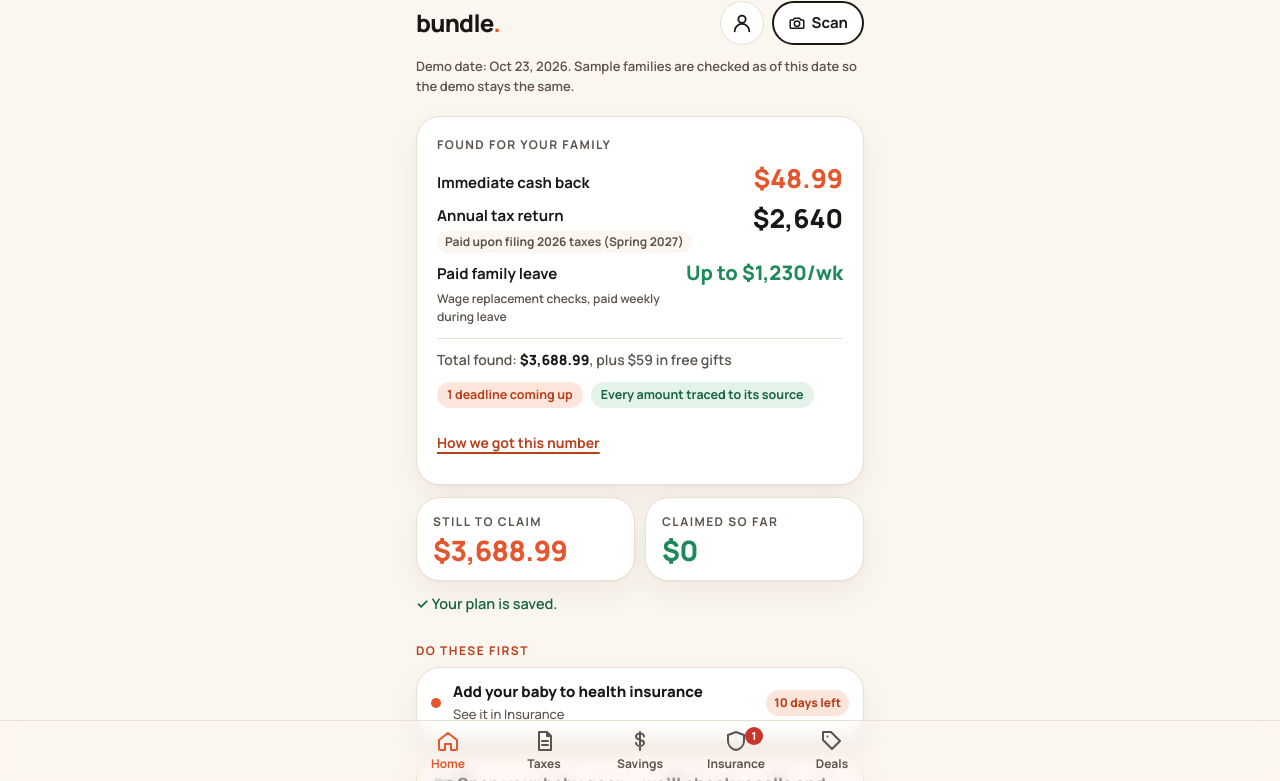
Test: Deals screen › an unsaved audit says it is shown to this parent only, and a problem is said in plain words
Click the button "Deals" at (832, 751), box [784,721,880,780]
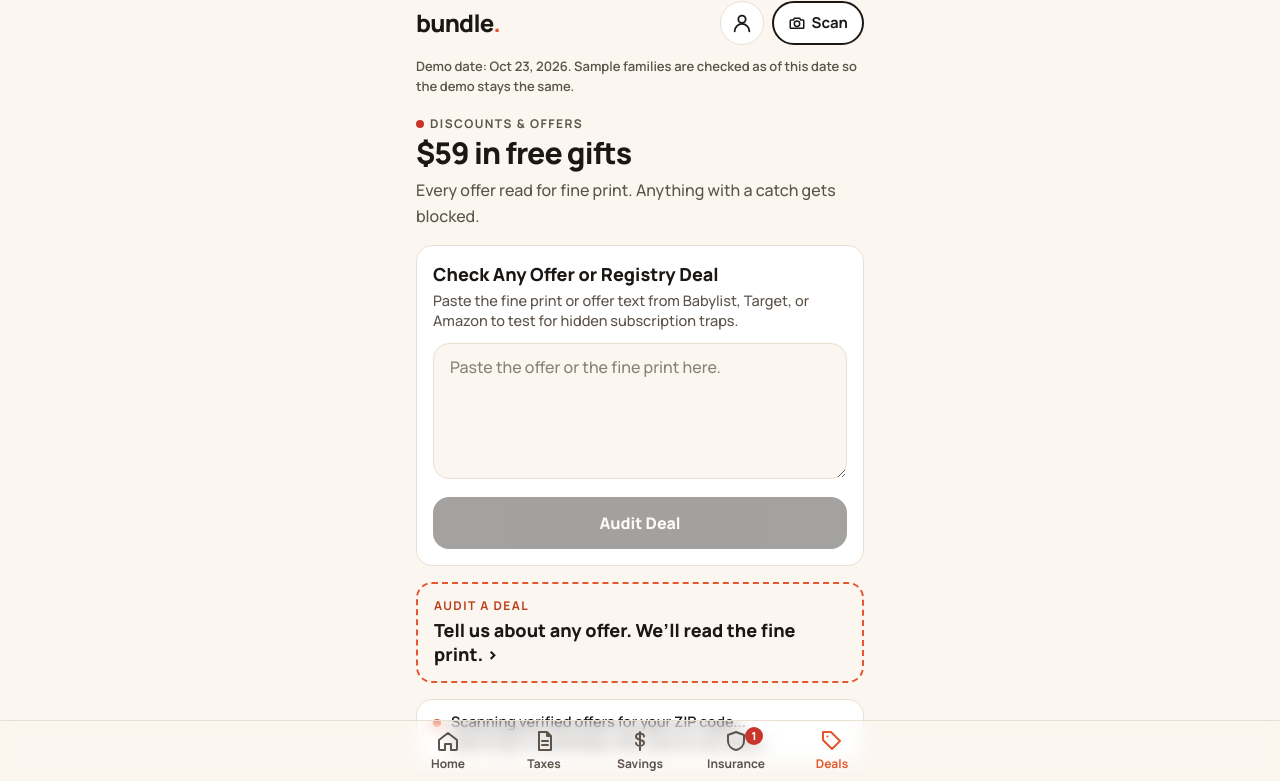
Click the button "Audit a deal" at (640, 632), box [416,582,864,683]
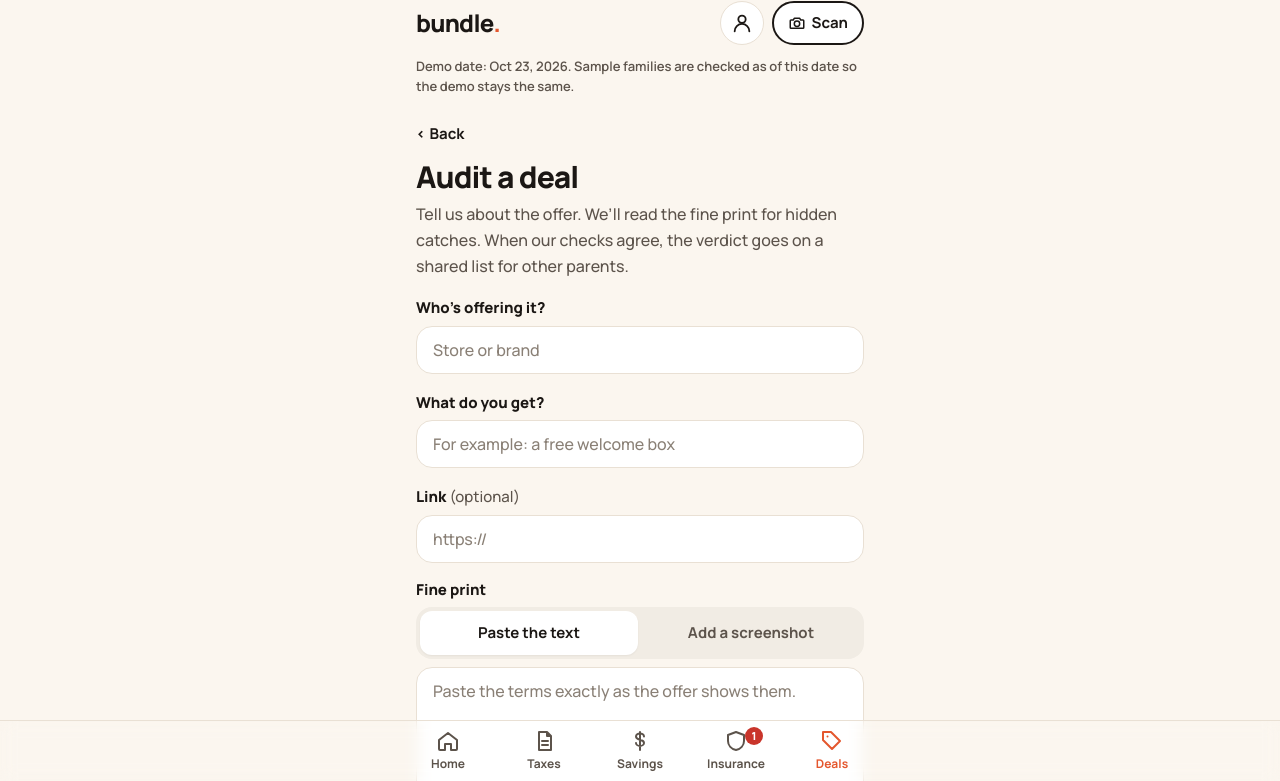
Type "Bitsy Box" into the field labelled "Who’s offering it?" at (640, 350), box [416,326,864,374]
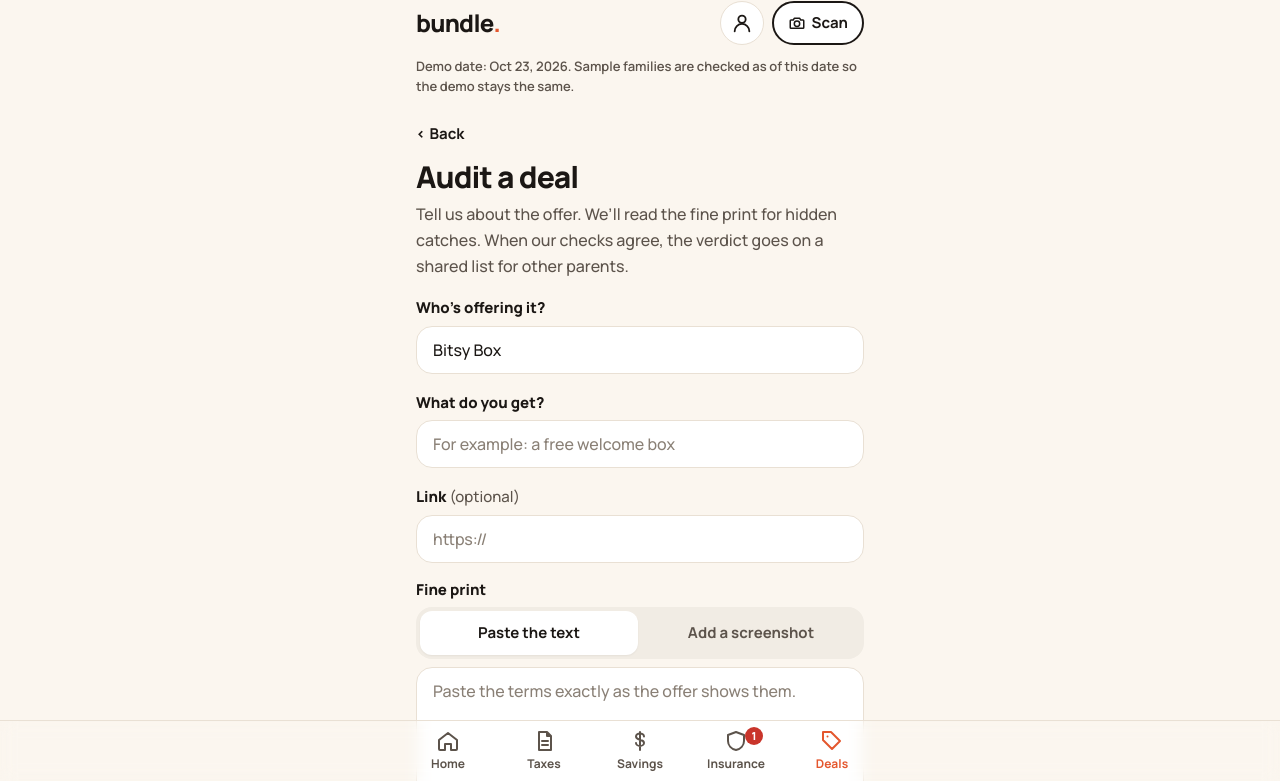
Type "A free baby box" into the field labelled "What do you get?" at (640, 444), box [416,420,864,468]
(page scrolled)
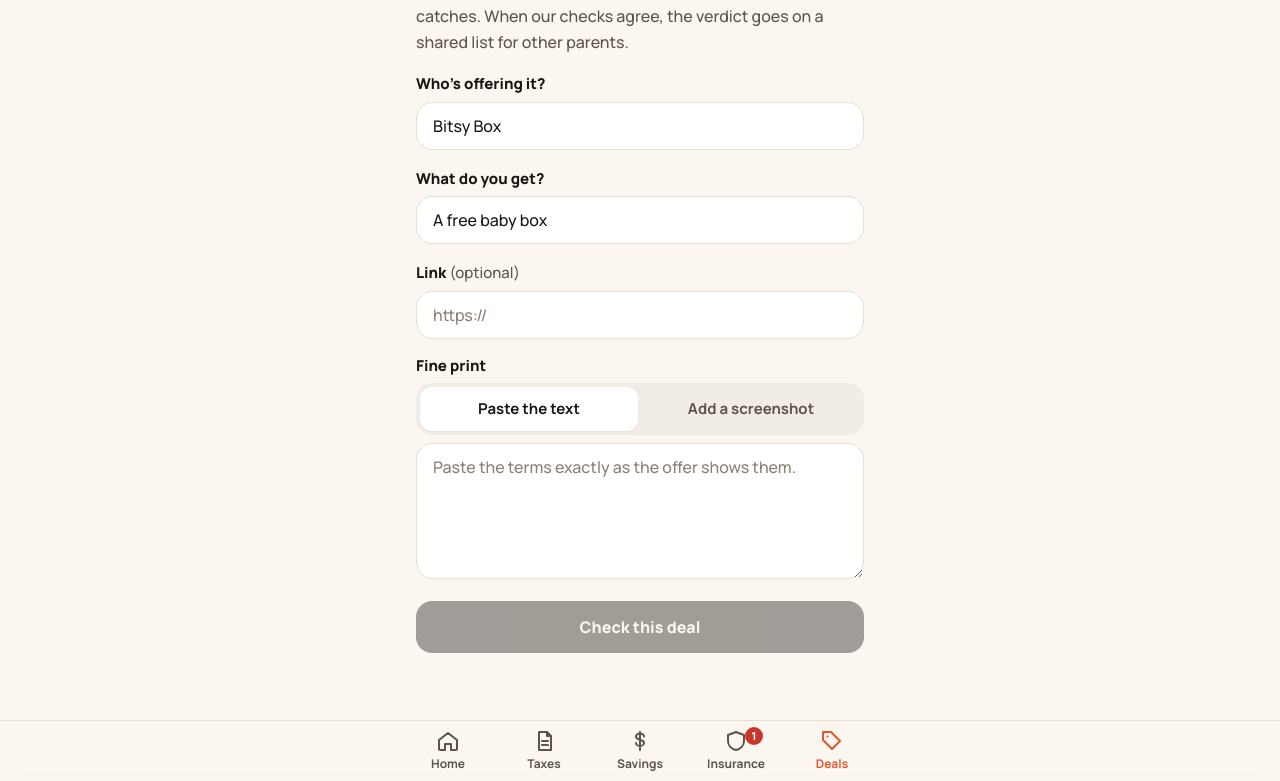
Type "Anything at all here." into the text box named "Fine print" at (640, 511), box [416,443,864,579]
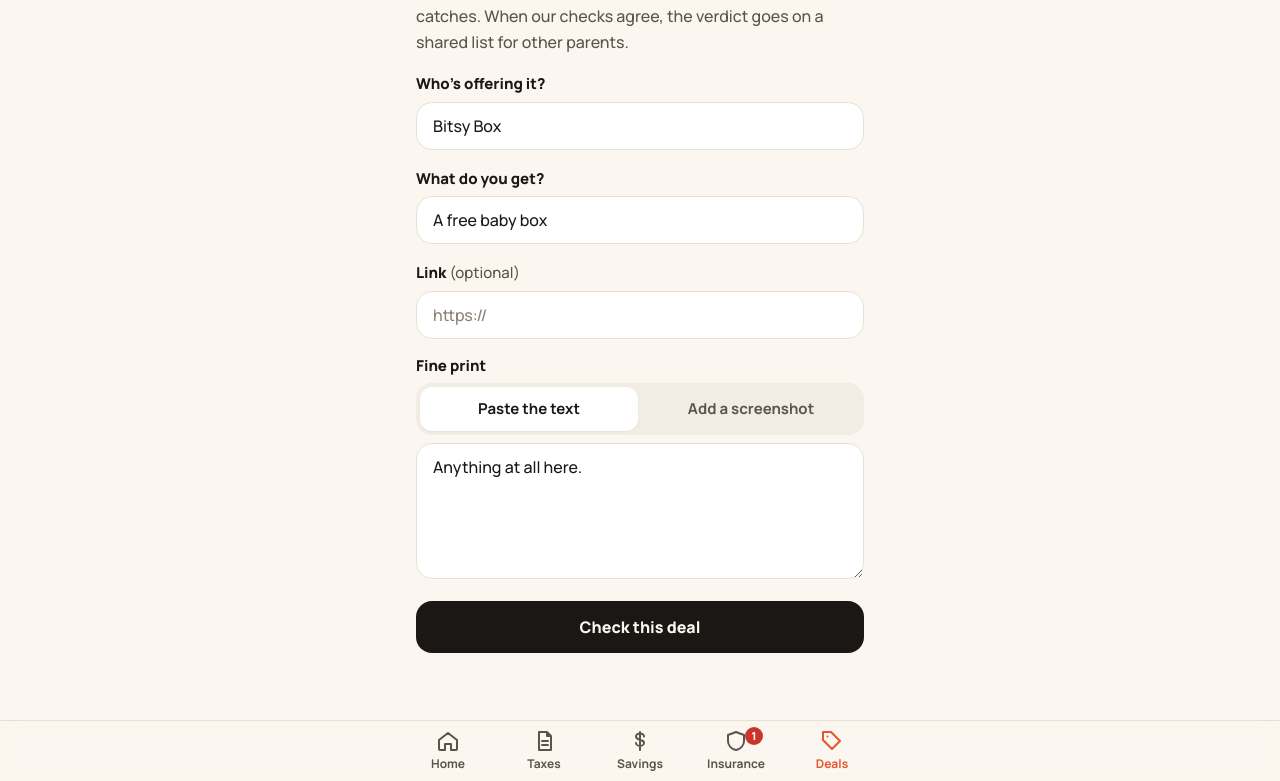
Click the button "Check this deal" at (640, 627), box [416,601,864,653]
(page scrolled)
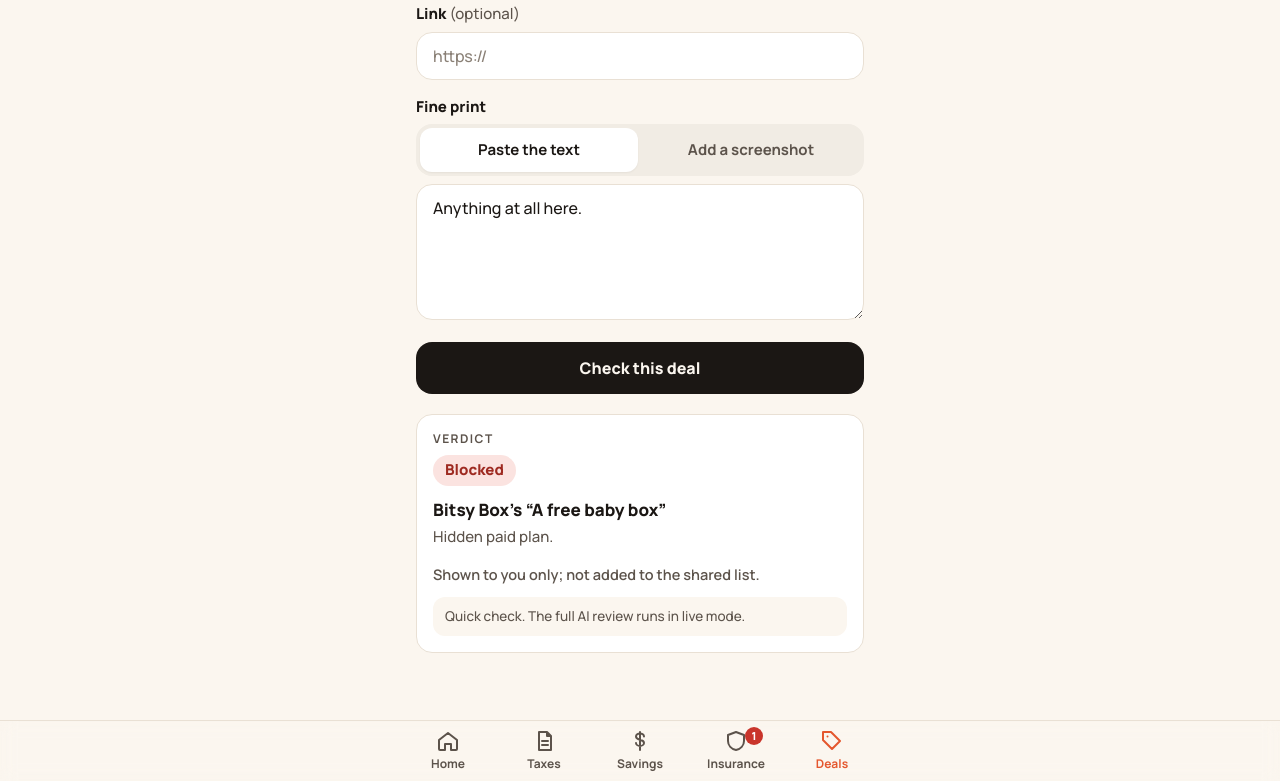
Expected: the text "Blocked" is shown, [433,455,516,486]
Expected: the text "Shown to you only; not added to the shared list." is shown, [433,565,760,584]
